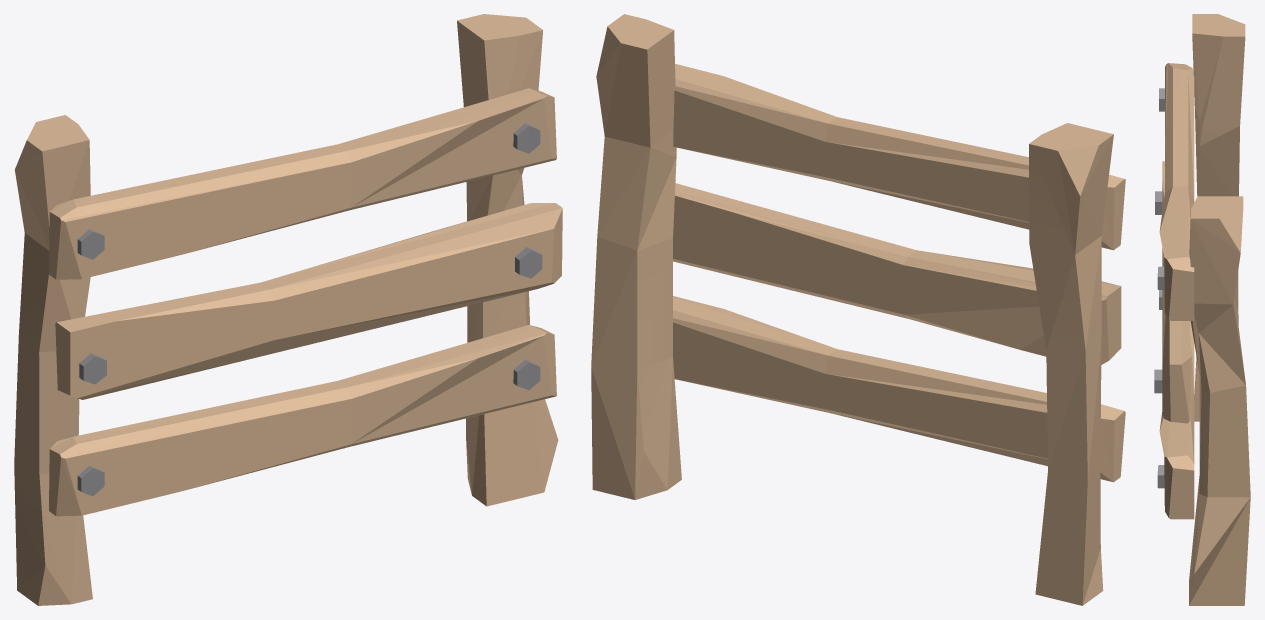
File: fence004.gltf
3 views of the same model, side by side, from view 1: azimuth 30°, elevation 25°; view 2: azimuth 150°, elevation 25°; view 3: azimuth 270°, elevation 25° (orthographic). The views are drawn at different scales.
Parts seen in each view (by area): view 1: node_Object001_-26020; view 2: node_Object001_-26020; view 3: node_Object001_-26020.
Boxes of the visible parts, bbox=[...] form: node_Object001_-26020: bbox=[14, 14, 562, 605]; node_Object001_-26020: bbox=[591, 14, 1125, 605]; node_Object001_-26020: bbox=[1154, 14, 1250, 605].
Size of what is drawn, in the model's own units: 0.8708 by 0.7414 by 0.1675.
